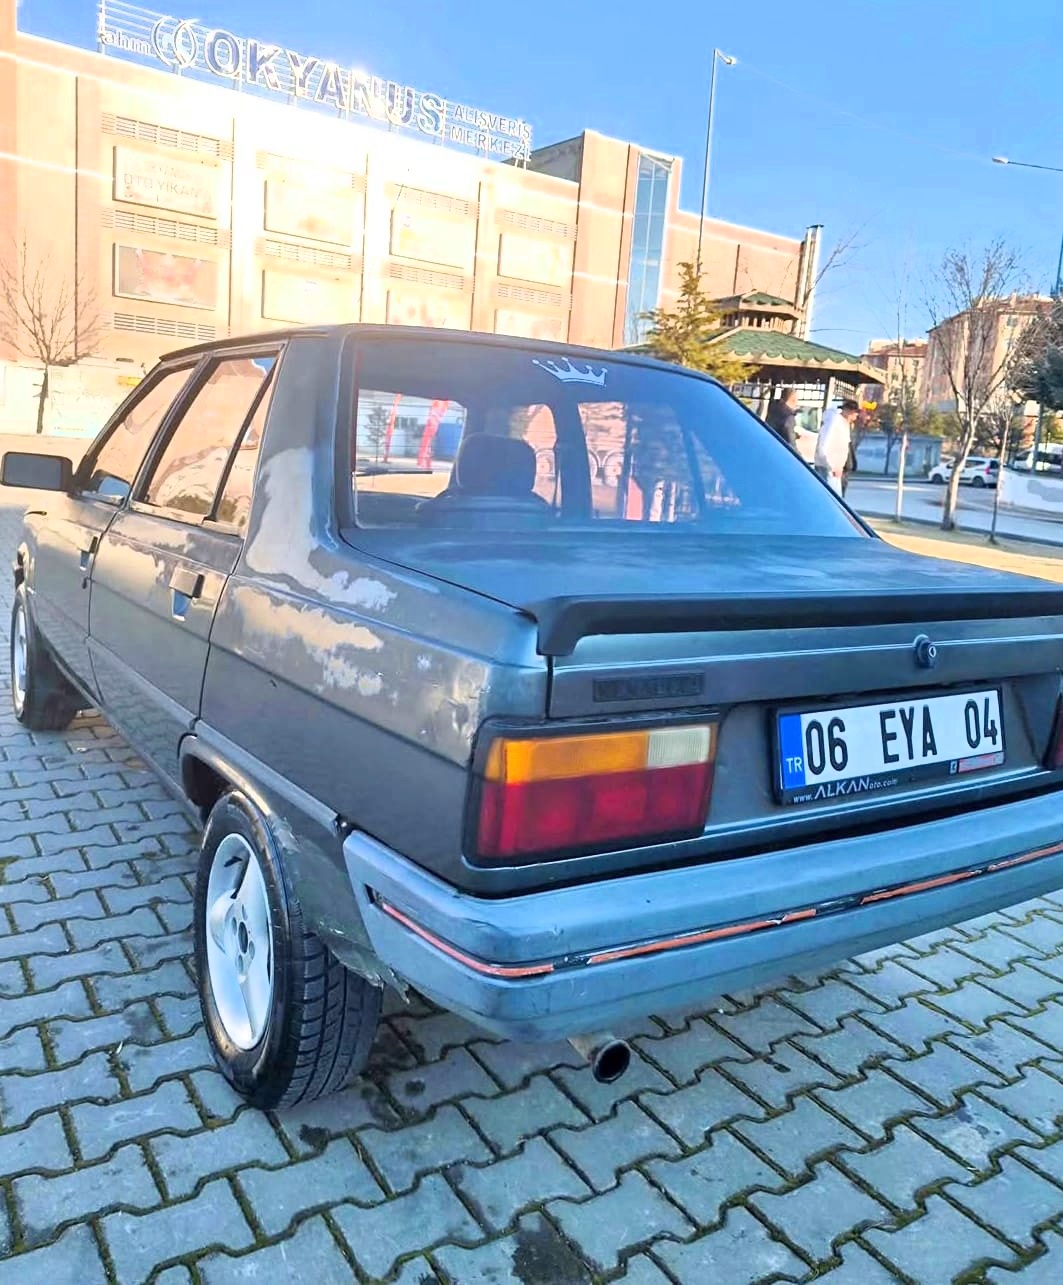plaka: (801, 689, 1008, 796)
